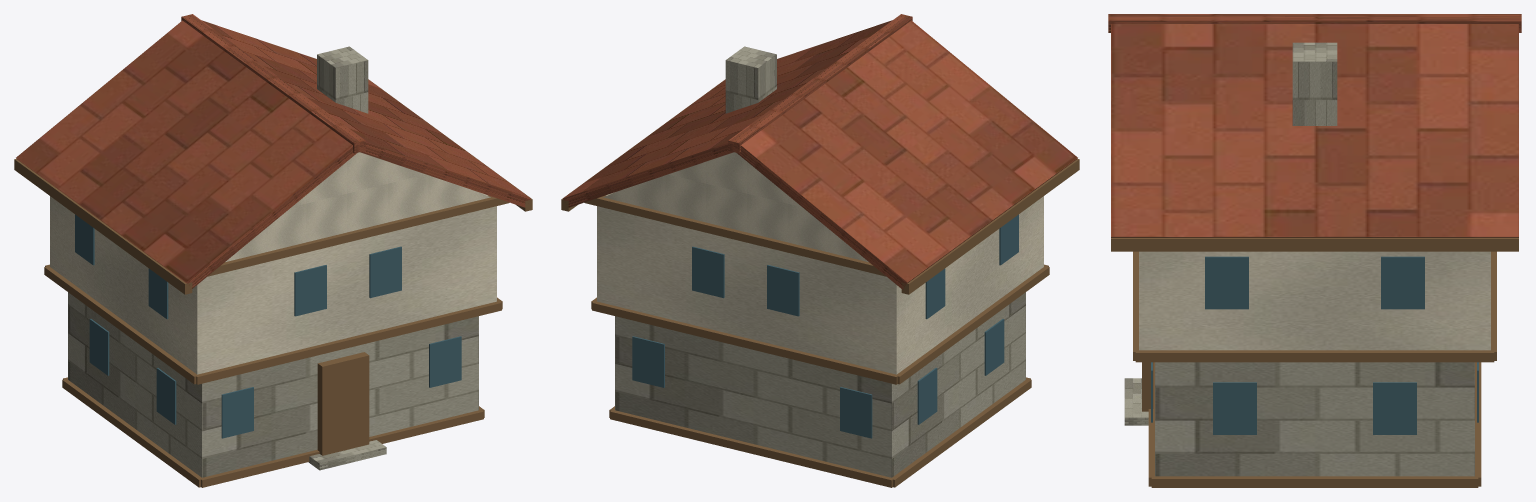
The picture shows the model from 3 angles, left to right: view 1: azimuth 30°, elevation 25°; view 2: azimuth 150°, elevation 25°; view 3: azimuth 270°, elevation 25°; orthographic projection. The views are drawn at different scales.
Parts seen in each view (by area): view 1: house-roof, house-plaster, house-stone, house-wood; view 2: house-roof, house-plaster, house-stone, house-wood; view 3: house-roof, house-stone, house-plaster, house-wood.
Boxes of the visible parts, x1,y1,x2,y2 form: house-roof: [16, 14, 530, 288]; house-plaster: [50, 152, 496, 374]; house-stone: [68, 46, 478, 477]; house-wood: [14, 80, 532, 487]; house-roof: [563, 14, 1077, 289]; house-plaster: [597, 152, 1043, 374]; house-stone: [615, 46, 1025, 477]; house-wood: [561, 80, 1079, 487]; house-roof: [1108, 14, 1521, 237]; house-stone: [1124, 42, 1474, 476]; house-plaster: [1139, 251, 1490, 350]; house-wood: [1111, 237, 1518, 487].
Bounding box in the file's own units: 8.54 × 7.74 × 7.36.
Materials: 4 (3 with a texture image).
